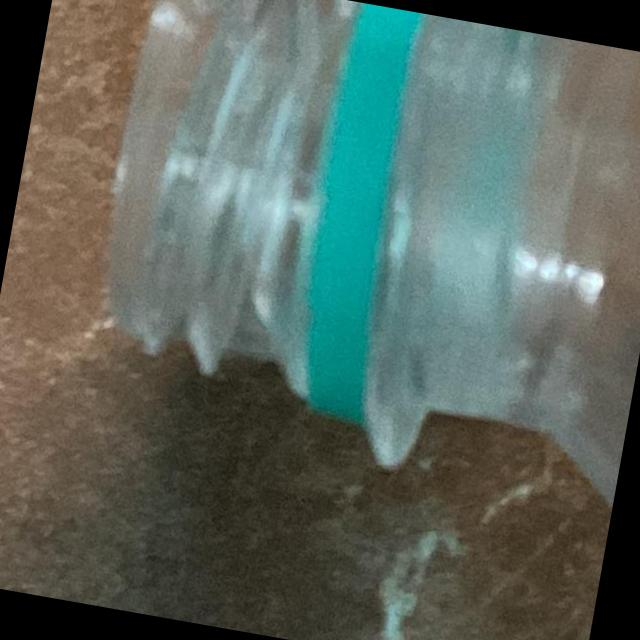open-cap: (93, 0, 472, 463)
